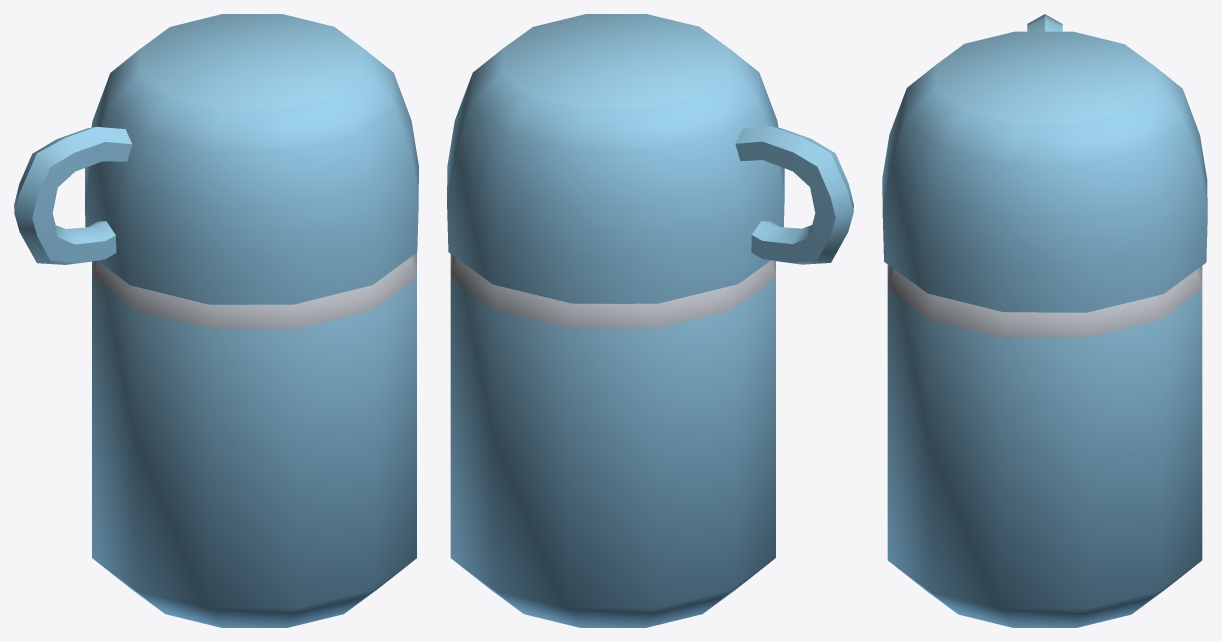
Rendered from KFB_Loot_thermos.r1.glb.
3 renders of one model, left to right at view 1: azimuth 30°, elevation 25°; view 2: azimuth 150°, elevation 25°; view 3: azimuth 270°, elevation 25°, orthographic. The views are drawn at different scales.
Parts seen in each view (by area): view 1: KFB_Loot_thermos; view 2: KFB_Loot_thermos; view 3: KFB_Loot_thermos.
Boxes of the visible parts, x1,y1,x2,y2 form: KFB_Loot_thermos: (14,14,418,627); KFB_Loot_thermos: (447,14,853,627); KFB_Loot_thermos: (882,14,1207,627).
Size of the model in its own units: 0.6808 by 0.875 by 0.5173.
1 material, 1 textured.
